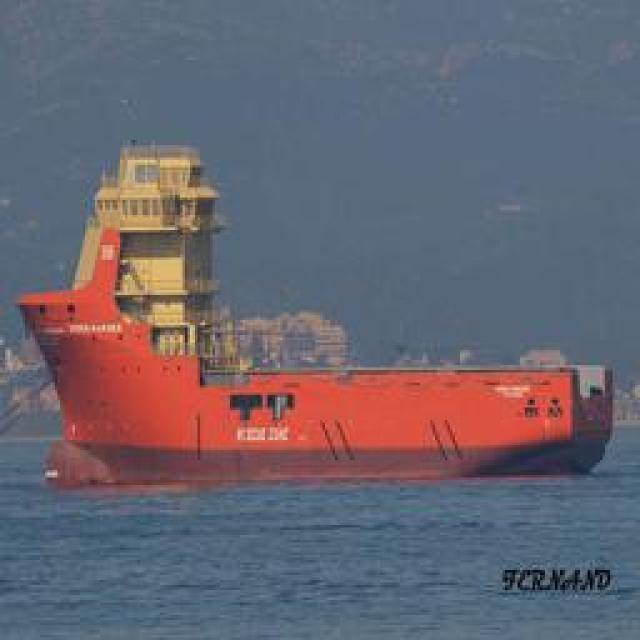ship2: (17, 144, 614, 491)
